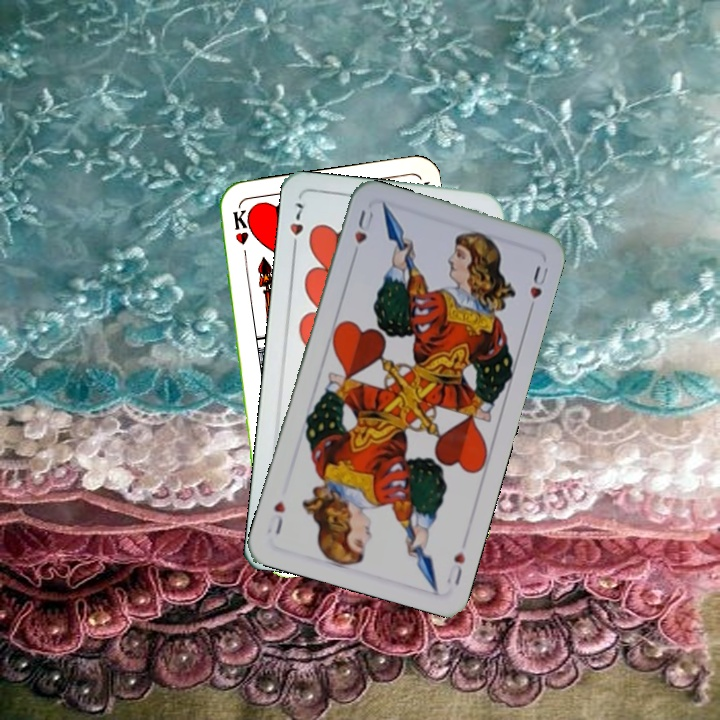H7: (285, 198, 307, 255)
HK: (228, 205, 251, 265)
HU: (347, 206, 377, 262), (443, 547, 468, 588)
